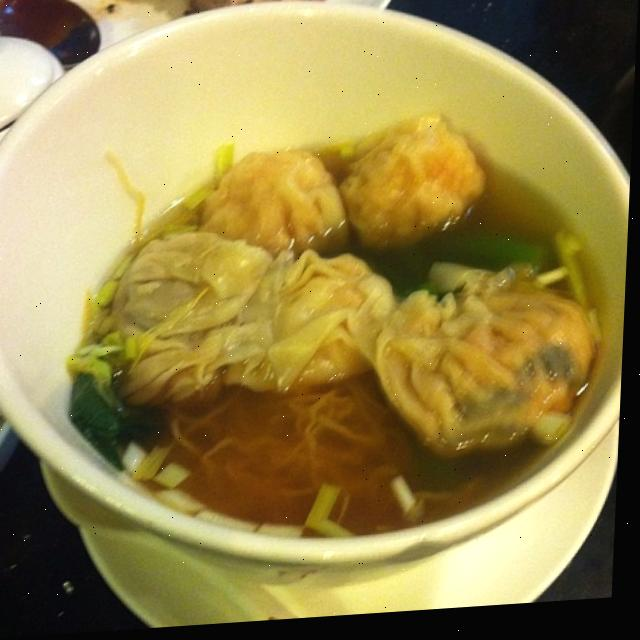汤锅炖物: (0, 0, 639, 619)
